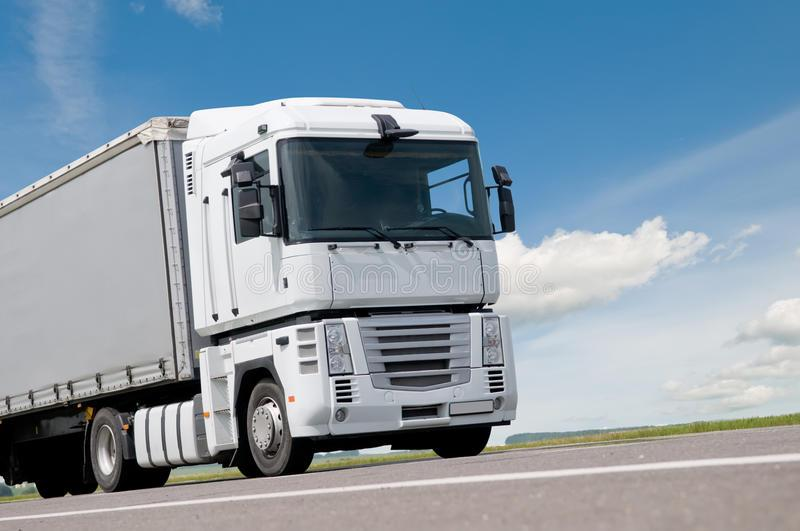truck: (1, 96, 518, 499)
